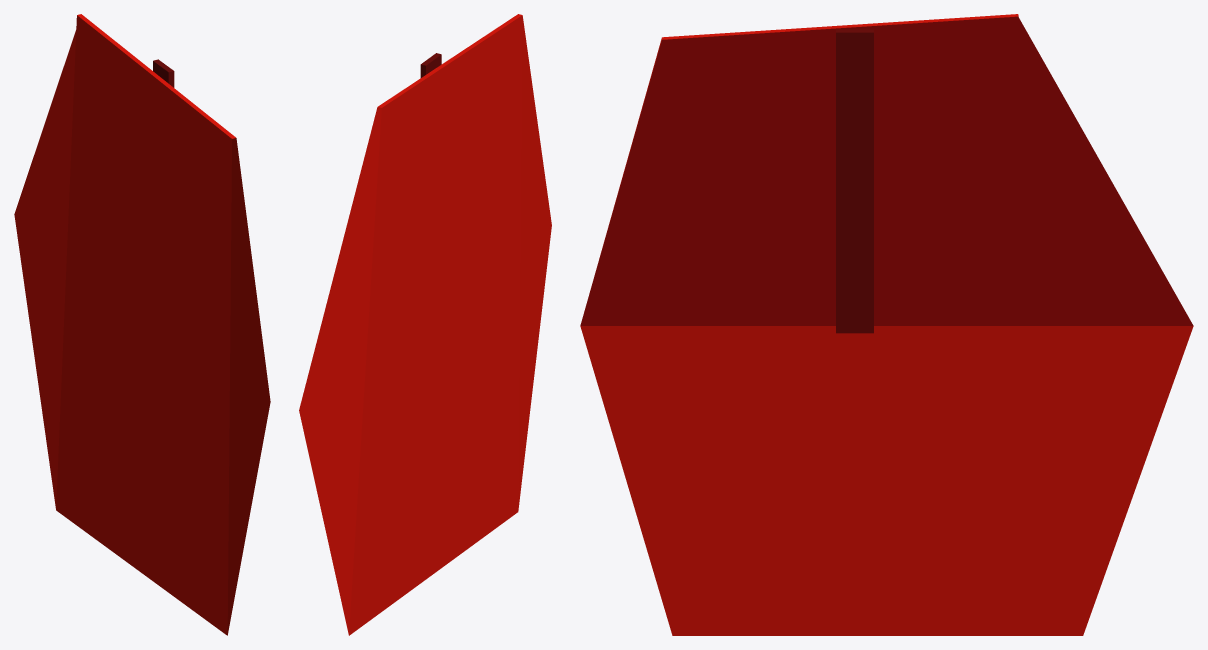
Rendered from mouse_icon.fbx.
3 renders of one model, left to right at view 1: azimuth 30°, elevation 25°; view 2: azimuth 150°, elevation 25°; view 3: azimuth 270°, elevation 25°, orthographic. The views are drawn at different scales.
Parts seen in each view (by area): view 1: Cube; view 2: Cube; view 3: Cube, Cube.001.
Part boxes in pixels (bbox=[...]): Cube: bbox=[14, 14, 270, 635]; Cube: bbox=[299, 14, 551, 635]; Cube: bbox=[580, 14, 1193, 635]; Cube.001: bbox=[836, 29, 873, 333].
Size of the model in its own units: 7.66 by 180 by 161.
